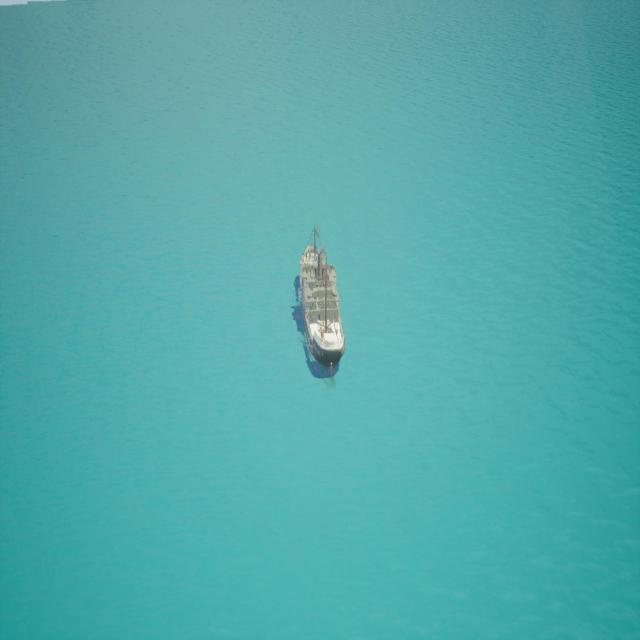fishing ship: (294, 224, 348, 384)
